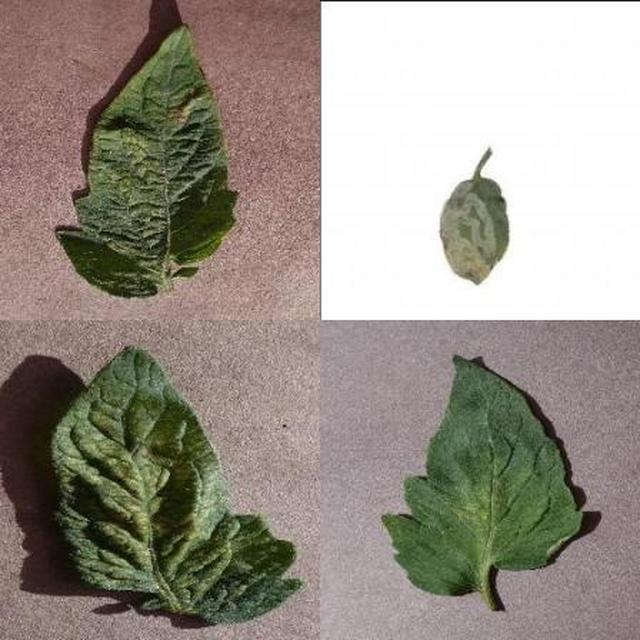Spider Mites Leaf: (102, 157, 640, 640)
